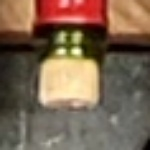bottle: (17, 7, 125, 116)
